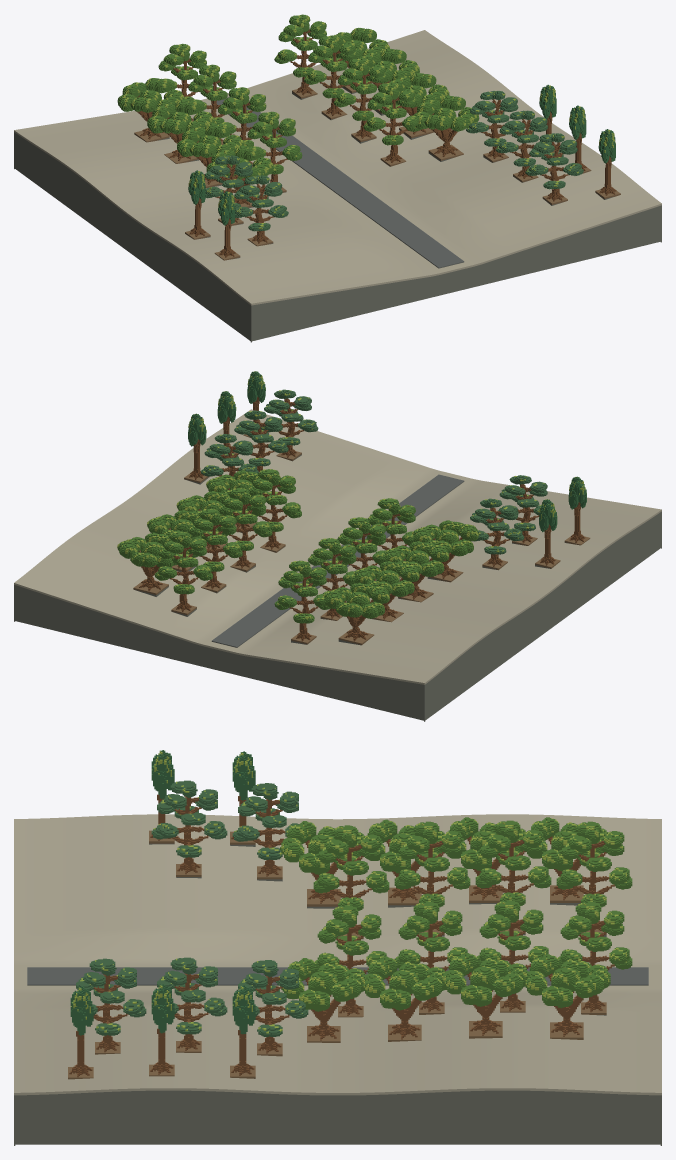
3 renders of one model, top to bottom at view 1: azimuth 30°, elevation 25°; view 2: azimuth 150°, elevation 25°; view 3: azimuth 270°, elevation 25°, orthographic. The views are drawn at different scales.
Parts seen in each view (by area): view 1: 连续岩土实体与最小原生岩块, 既有量化乔木树干与错层冠母版 (×8), 阔叶分枝与开阔树冠母版 (×8), 松类体素分枝树母版 (×5), 真实实体路基与连续坡面, 柏类柱冠树母版 (×5); view 2: 连续岩土实体与最小原生岩块, 既有量化乔木树干与错层冠母版 (×8), 阔叶分枝与开阔树冠母版 (×8), 松类体素分枝树母版 (×5), 柏类柱冠树母版 (×5), 真实实体路基与连续坡面; view 3: 连续岩土实体与最小原生岩块, 既有量化乔木树干与错层冠母版 (×8), 阔叶分枝与开阔树冠母版 (×8), 松类体素分枝树母版 (×5), 柏类柱冠树母版 (×5), 真实实体路基与连续坡面.
Part boxes in pixels (x1=…): 连续岩土实体与最小原生岩块: x1=14, y1=30, x2=661, y2=342; 既有量化乔木树干与错层冠母版 (×8): x1=158, y1=14, x2=420, y2=187; 阔叶分枝与开阔树冠母版 (×8): x1=117, y1=27, x2=479, y2=205; 松类体素分枝树母版 (×5): x1=204, y1=91, x2=583, y2=243; 真实实体路基与连续坡面: x1=216, y1=97, x2=464, y2=268; 柏类柱冠树母版 (×5): x1=188, y1=84, x2=616, y2=257; 连续岩土实体与最小原生岩块: x1=14, y1=409, x2=661, y2=721; 既有量化乔木树干与错层冠母版 (×8): x1=154, y1=469, x2=415, y2=641; 阔叶分枝与开阔树冠母版 (×8): x1=117, y1=470, x2=478, y2=641; 松类体素分枝树母版 (×5): x1=200, y1=389, x2=547, y2=566; 柏类柱冠树母版 (×5): x1=188, y1=371, x2=586, y2=565; 真实实体路基与连续坡面: x1=211, y1=474, x2=464, y2=647; 连续岩土实体与最小原生岩块: x1=14, y1=814, x2=661, y2=1145; 既有量化乔木树干与错层冠母版 (×8): x1=313, y1=820, x2=632, y2=1015; 阔叶分枝与开阔树冠母版 (×8): x1=280, y1=817, x2=610, y2=1040; 松类体素分枝树母版 (×5): x1=76, y1=780, x2=308, y2=1053; 柏类柱冠树母版 (×5): x1=69, y1=750, x2=255, y2=1077; 真实实体路基与连续坡面: x1=27, y1=967, x2=648, y2=985.
Size of the model in its own units: 96 by 23.2 by 96.
9 materials, 9 textured.
